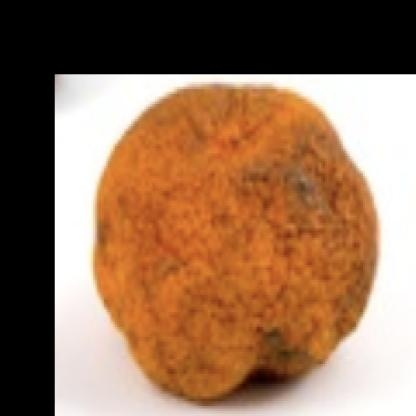rotten: (91, 81, 378, 410)
